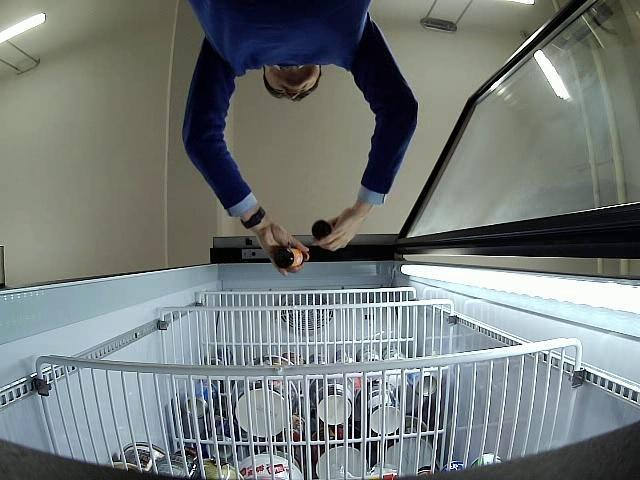17_vita500: (273, 244, 310, 270), (312, 218, 332, 242)
